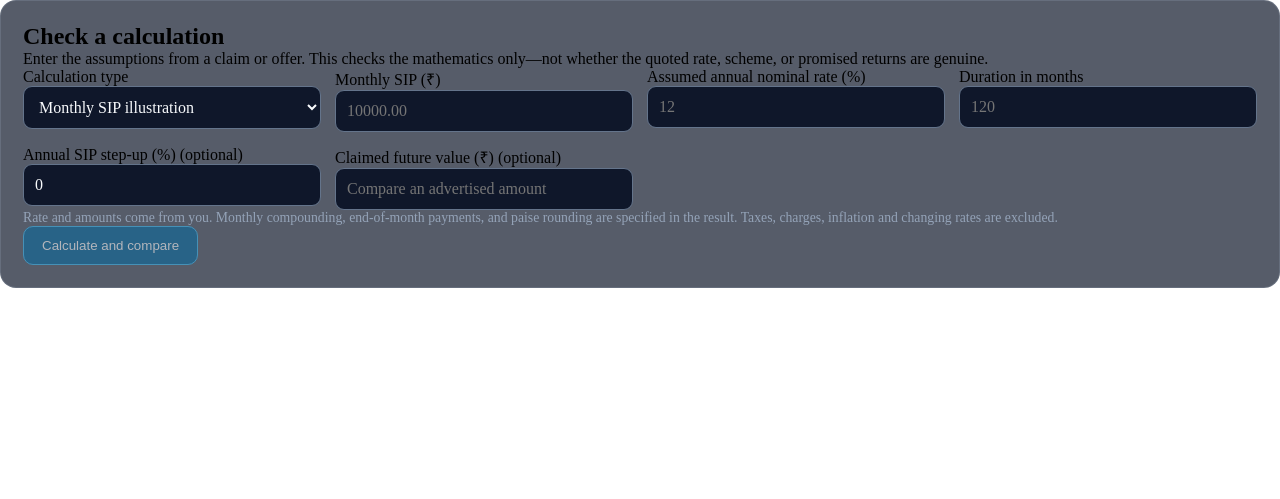
Test case: GenieProof math-only illustration › only submits typed assumptions and labels calculations as unverified
Type "100" into the field labelled "Monthly SIP (₹)" at (484, 111), box [335,90,633,132]
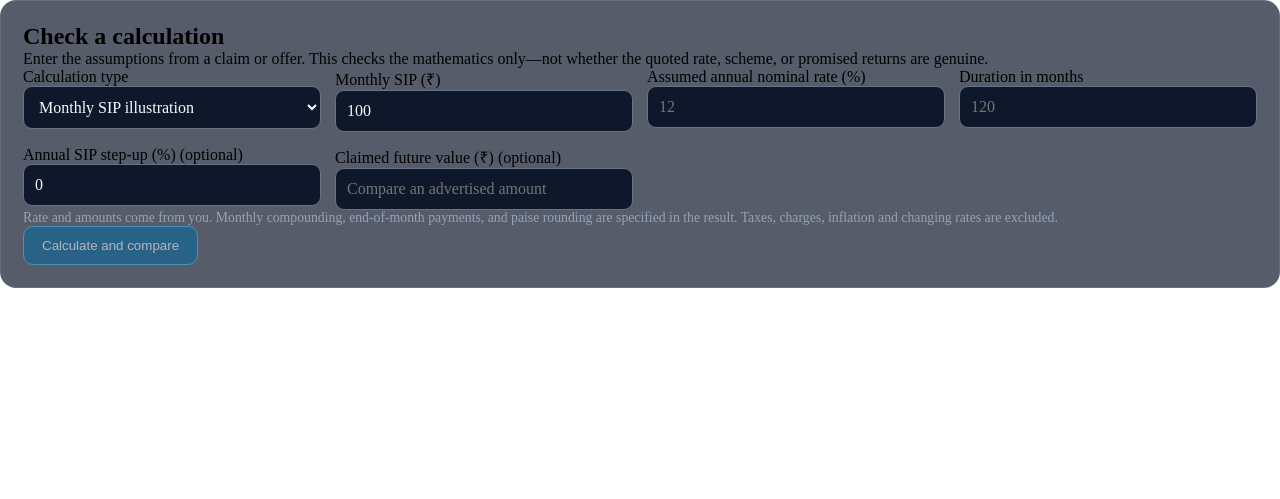
Type "0" into the field labelled "Assumed annual nominal rate (%)" at (796, 107), box [647,86,945,128]
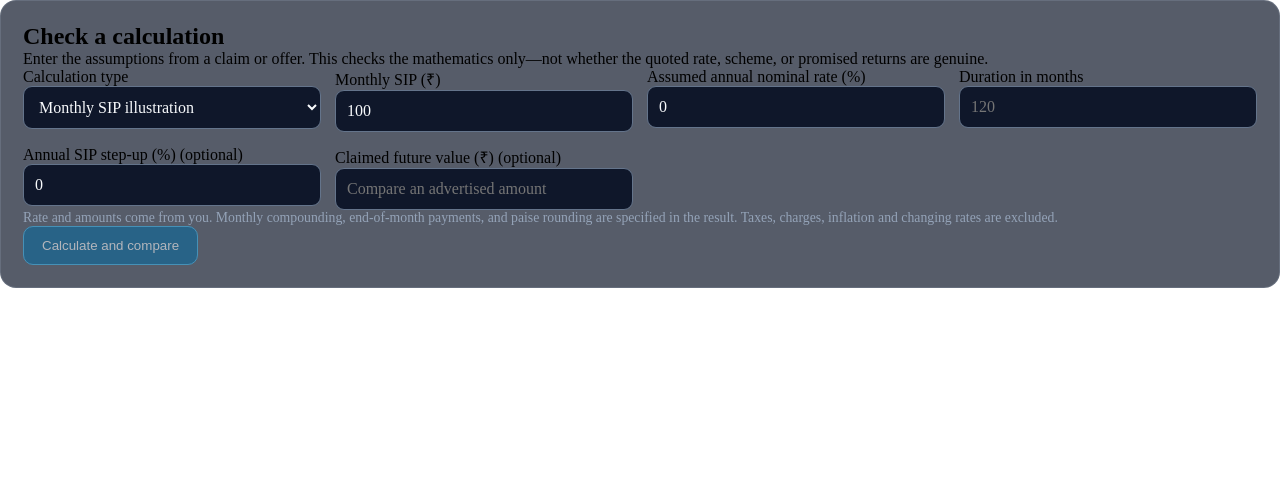
Type "12" into the field labelled "Duration in months" at (1108, 107), box [959,86,1257,128]
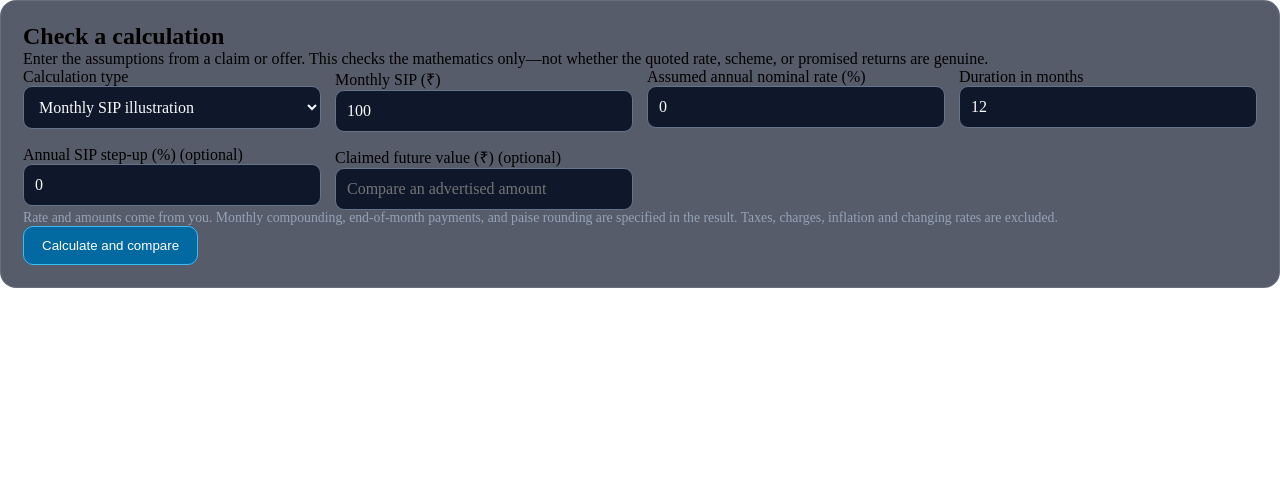
Click the button "Calculate and compare" at (111, 246), box [23,226,198,265]
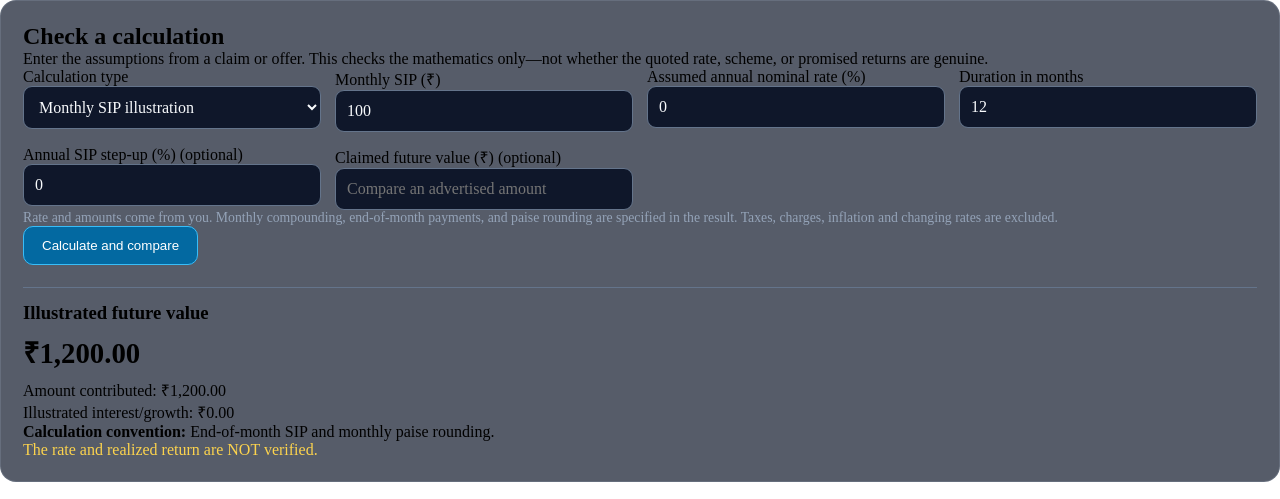
Expected: the text "checks the mathematics only" is shown, [23,50,988,67]
Expected: the text "₹1,200.00" is shown, [23,337,140,369]
Expected: the text "The rate and realized return are NOT verified." is shown, [23,441,318,458]
